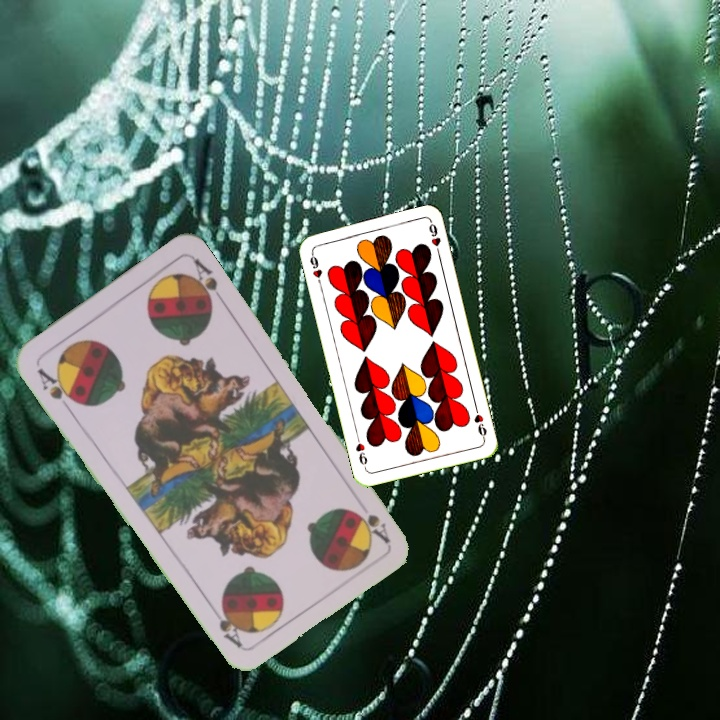H9: (470, 402, 489, 442), (306, 248, 325, 288)
SA: (33, 364, 80, 407), (351, 506, 393, 546)
